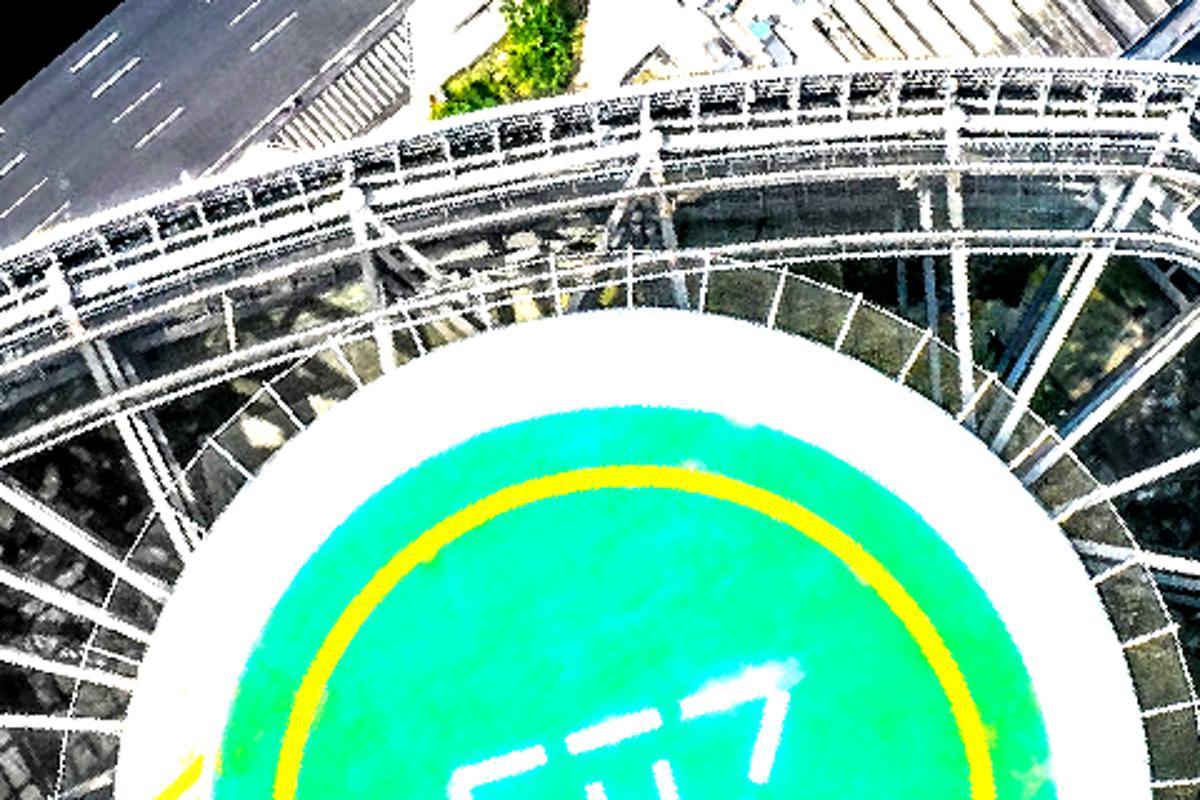Apron: (265, 461, 1018, 800)
